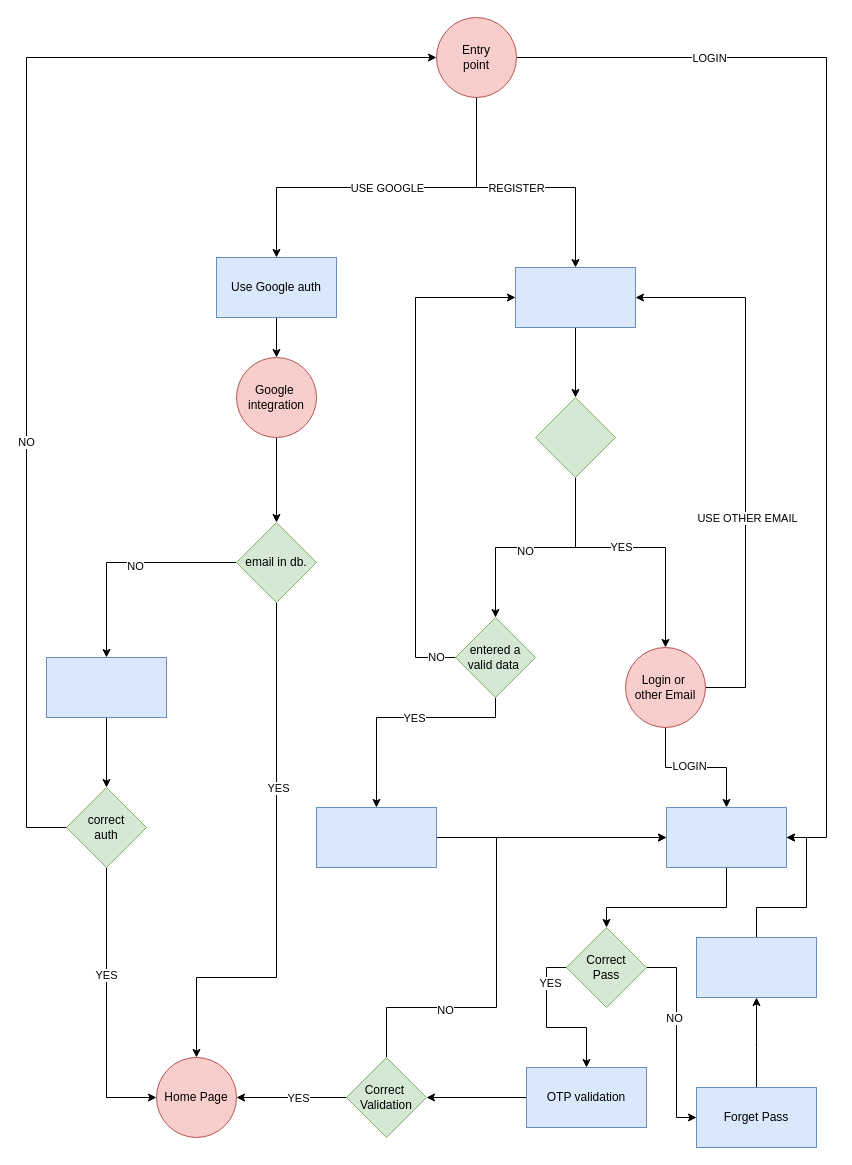
This 852x1165 diagram has some shape labels left out. Each missing label, with the box of its shape:
Auth Google: (46, 656, 166, 718)
Change Pass: (696, 936, 816, 998)
email in db: (534, 396, 616, 478)
Enter Personal data: (514, 266, 636, 328)
Login data: (666, 806, 786, 868)
Validate Email: (316, 806, 436, 868)
